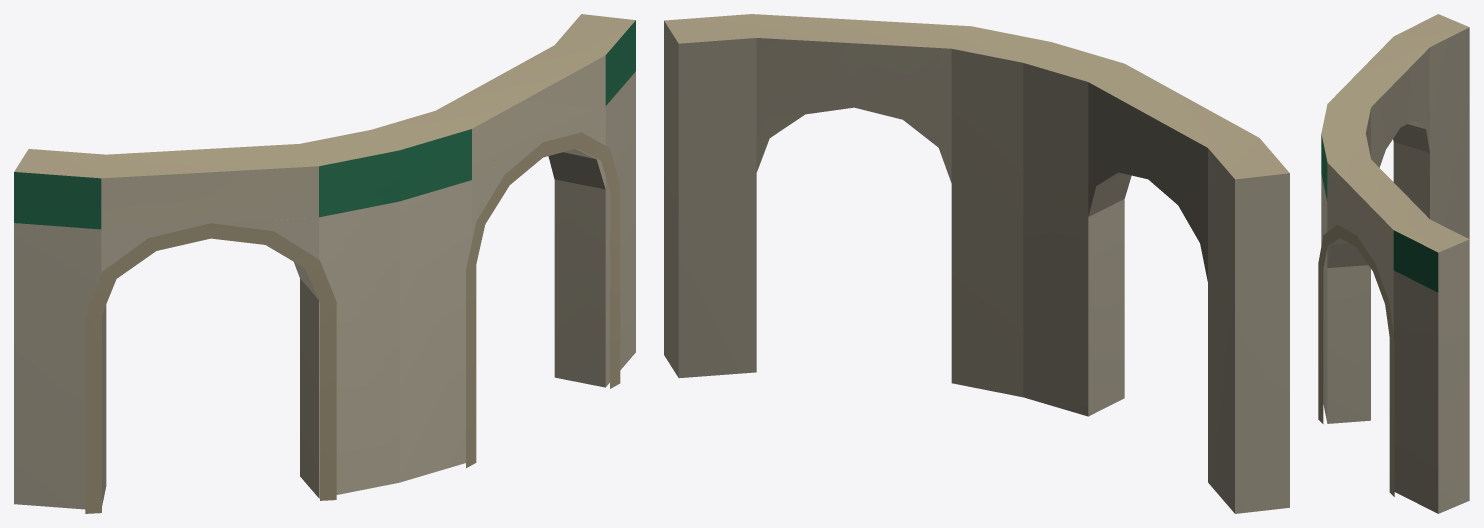
Rendered from dome.drum_arch.green.glb.
3 renders of one model, left to right at view 1: azimuth 30°, elevation 25°; view 2: azimuth 150°, elevation 25°; view 3: azimuth 270°, elevation 25°, orthographic. The views are drawn at different scales.
Parts seen in each view (by area): view 1: dome_drum_arch_green; view 2: dome_drum_arch_green; view 3: dome_drum_arch_green.
Part boxes in pixels (x1,y1,x2,y2): dome_drum_arch_green: (14, 14, 635, 513); dome_drum_arch_green: (664, 14, 1289, 513); dome_drum_arch_green: (1318, 14, 1469, 513).
Size of what is drawn, in the model's own units: 5.09 by 2.6 by 1.37.
